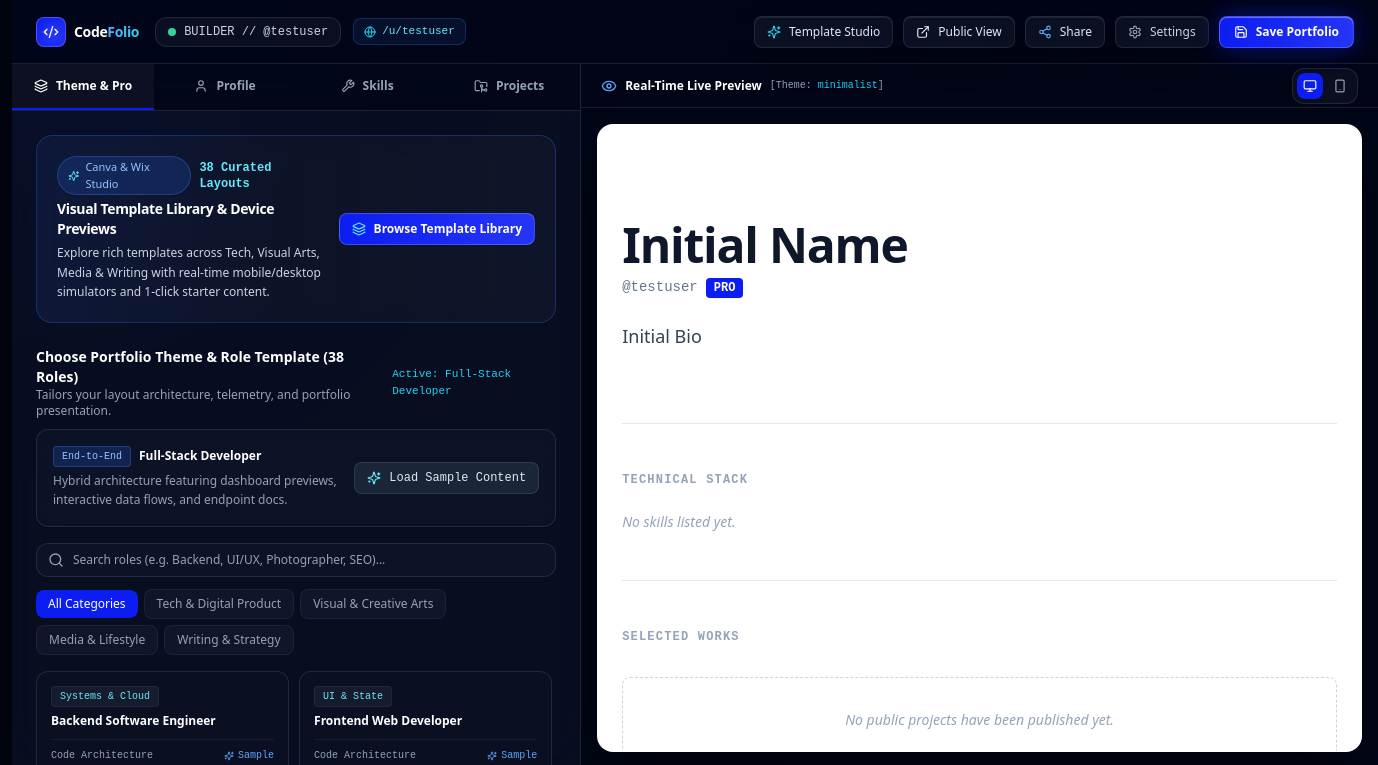
Test case: ROLE TAXONOMY & TEMPLATE LAYOUT ENGINES TEST SUITE › 3. Split-Screen Builder Role Selector & Sample Data Pre-fill › should filter roles by category pills
The image size is (1378, 765).
Expected: the heading "Choose Portfolio Theme & Role Template (38 Roles)" is shown, [36,346,384,386]
# Click "Media & Lifestyle" category pill
Click the button "Media & Lifestyle".
click(97, 640)  # box [36,624,158,654]
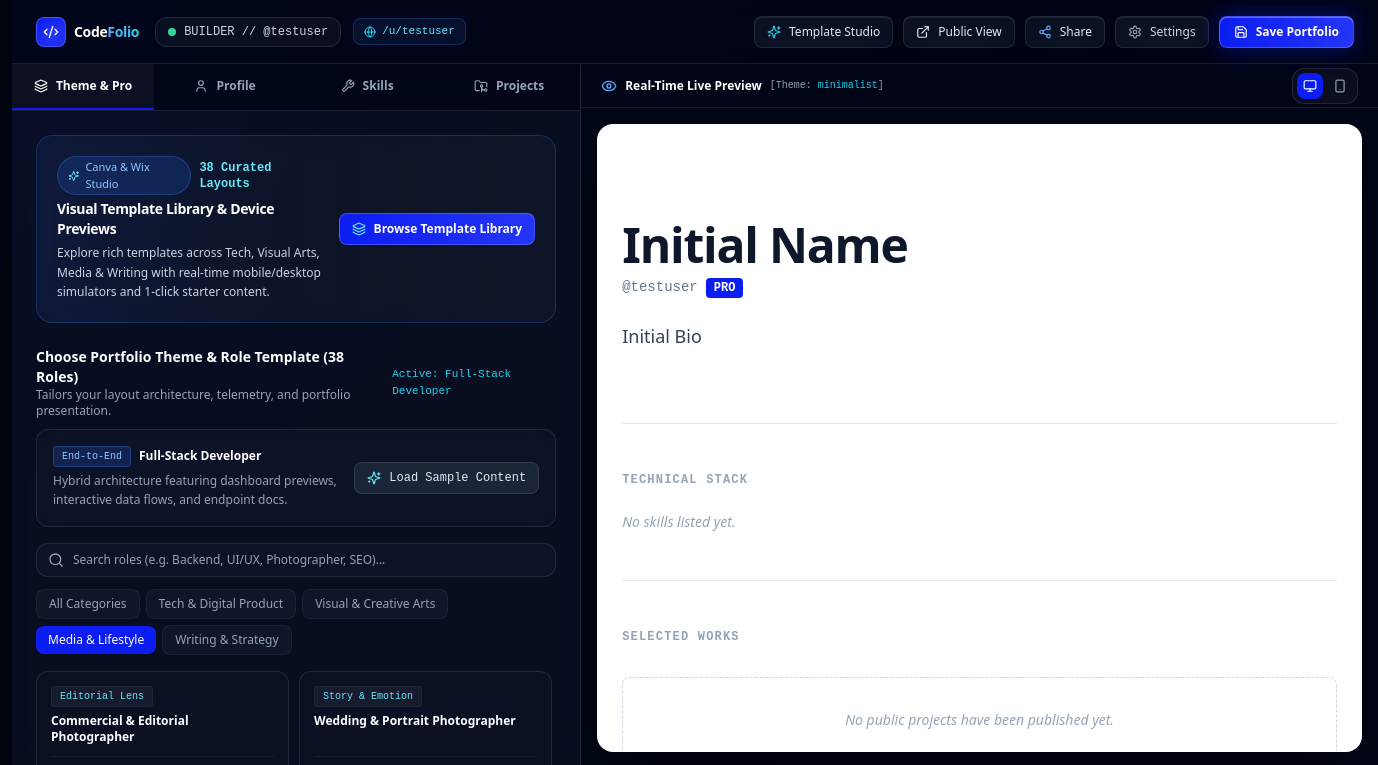
Expected: the heading "Commercial & Editorial Photographer" is shown, [51,712,188,745]
